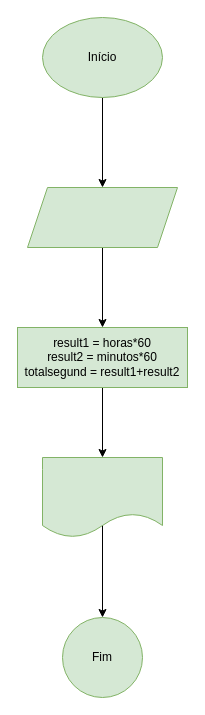
This 205x715 diagram has some shape labels left out. Each missing label, with the centre of its shape:
horas, minutos: the point at 102,217
totalsegund: the point at 102,497
